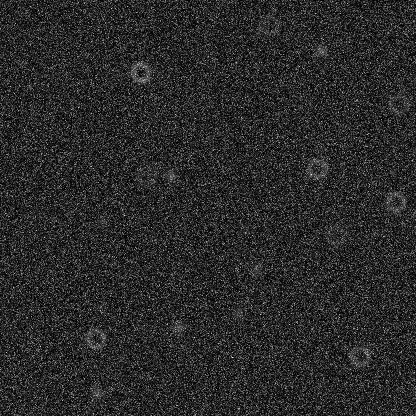Ring: (128, 60, 152, 84), (386, 92, 410, 116), (323, 223, 347, 247), (134, 162, 158, 186), (83, 326, 107, 350), (305, 156, 329, 180), (257, 13, 281, 37), (347, 344, 371, 368), (383, 190, 407, 214)
Spot: (248, 262, 264, 278), (312, 42, 328, 58), (94, 213, 110, 229), (162, 167, 178, 183), (88, 384, 104, 400), (170, 319, 186, 335), (237, 221, 253, 237), (229, 305, 245, 321)
